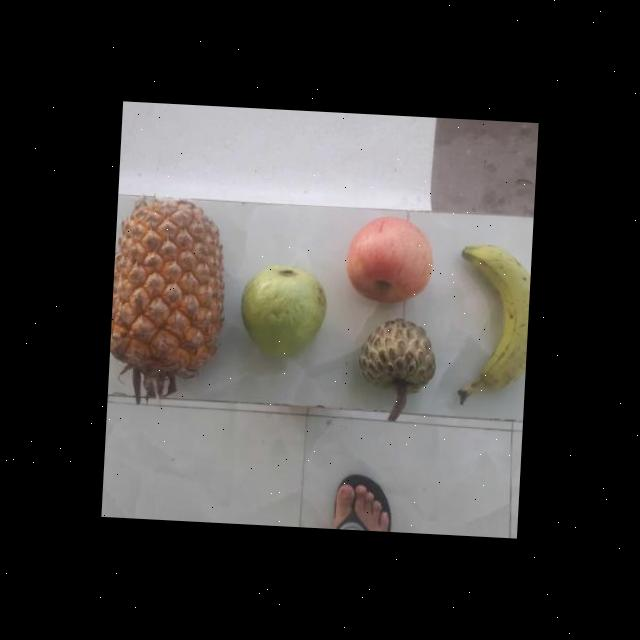Sakya fruit: (353, 318, 438, 402)
apple: (342, 215, 438, 308)
banana: (454, 245, 532, 397)
guava: (235, 262, 328, 360)
pineapple: (109, 198, 225, 384)
